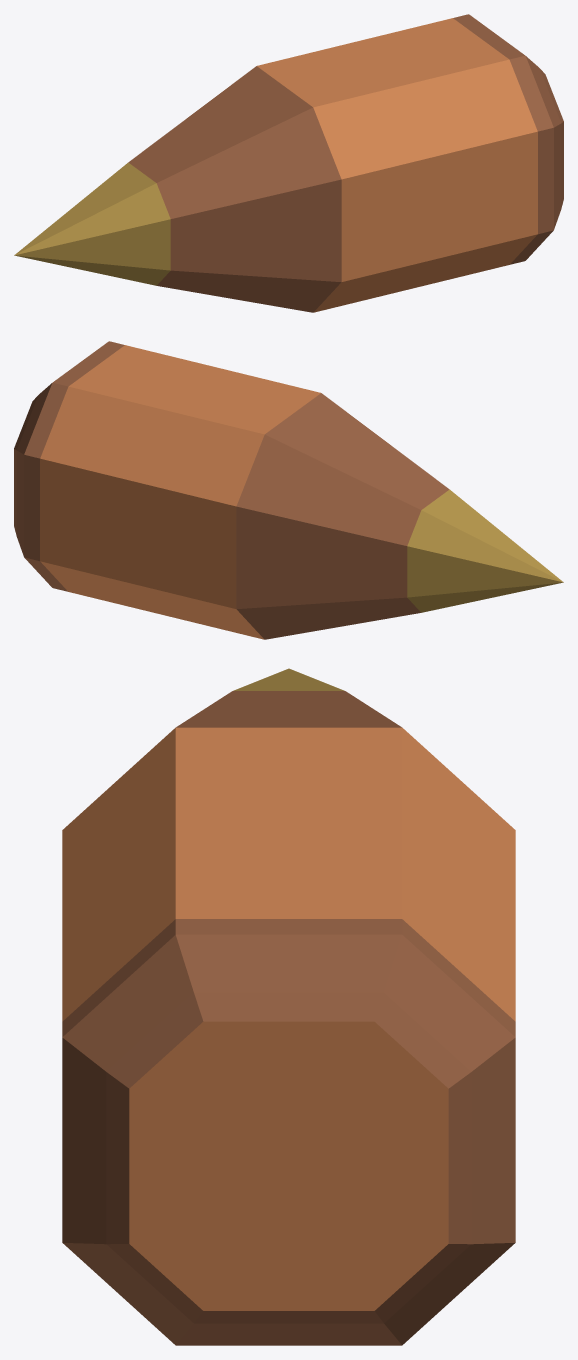
Rendered from BulletModel 1.fbx.
The picture shows the model from 3 angles, top to bottom: view 1: azimuth 30°, elevation 25°; view 2: azimuth 150°, elevation 25°; view 3: azimuth 270°, elevation 25°; orthographic projection. The views are drawn at different scales.
Visible parts, largest first — view 1: Bullet; view 2: Bullet; view 3: Bullet.
Boxes of the visible parts, x1=… form: Bullet: x1=14, y1=14, x2=563, y2=312; Bullet: x1=14, y1=341, x2=563, y2=639; Bullet: x1=62, y1=668, x2=515, y2=1345.
Bounding box in the file's own units: 520 × 200 × 200.
